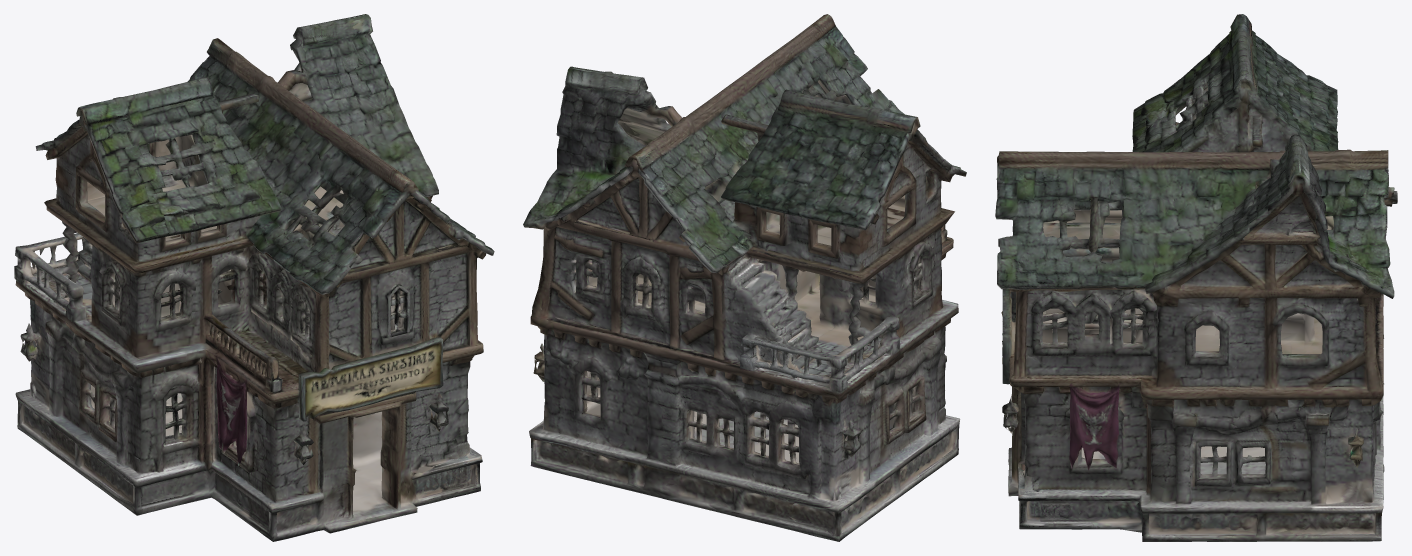
3 views of the same model, side by side, from view 1: azimuth 30°, elevation 25°; view 2: azimuth 150°, elevation 25°; view 3: azimuth 270°, elevation 25° (orthographic).
Parts seen in each view (by area): view 1: Mesh_0; view 2: Mesh_0; view 3: Mesh_0.
Boxes of the visible parts, x1,y1,x2,y2 form: Mesh_0: (14, 14, 494, 541); Mesh_0: (523, 14, 966, 541); Mesh_0: (995, 14, 1397, 541).
Size of the model in its own units: 173 by 191 by 186.
Materials: 1 (1 with a texture image).
